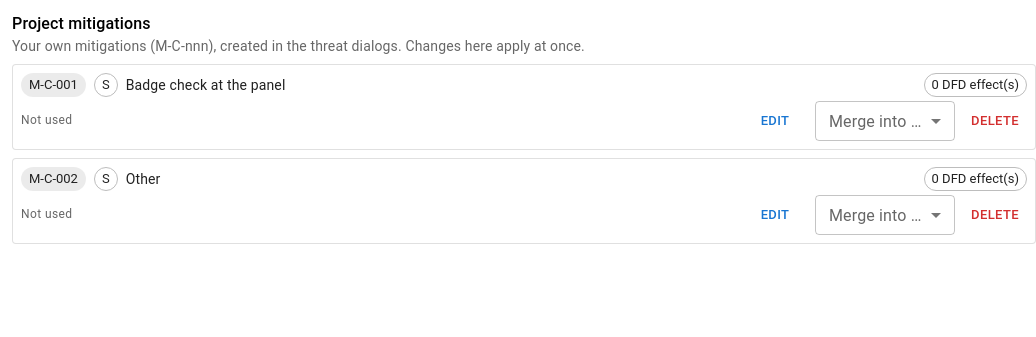
Scenario: configuration list › a merge with conflicting data is refused and names the risks
Press the mouse on the 1st dropdown at x=885, y=121, box 815,101 -> 955,141
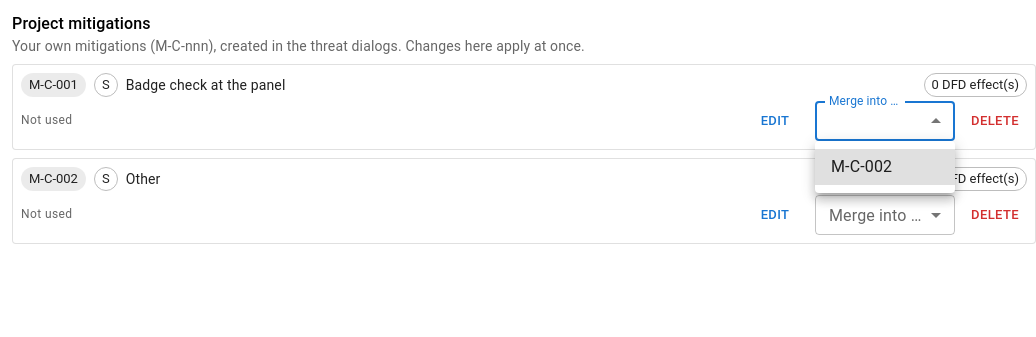
Click the option "M-C-002".
click(885, 167)  # box 815,149 -> 955,185
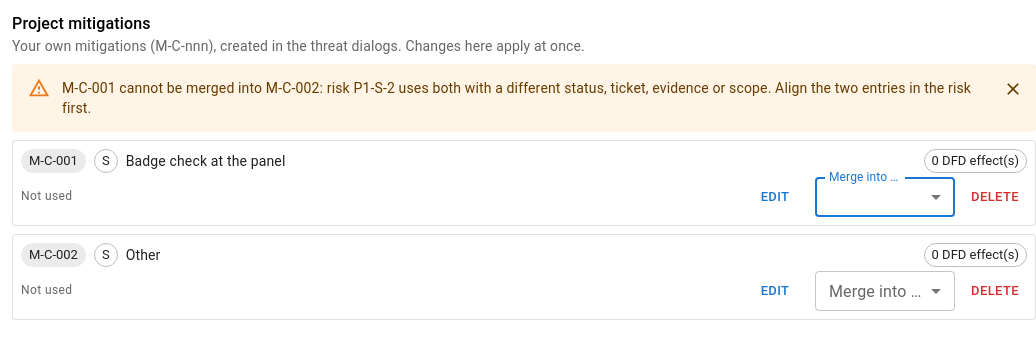
Check: the message with test id "pm-merge-blocked" shows "risk P1-S-2", box 62,80 -> 971,116
